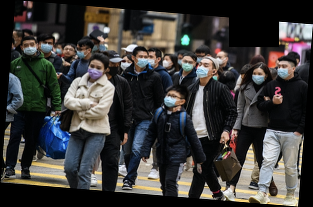with_mask: (195, 60, 210, 79), (87, 64, 104, 80), (163, 92, 179, 108), (276, 63, 290, 80), (22, 41, 37, 56), (135, 53, 149, 69), (251, 71, 266, 85), (181, 58, 194, 73), (108, 61, 120, 77), (40, 40, 53, 53), (74, 46, 86, 60), (120, 59, 132, 72), (147, 54, 157, 68), (194, 53, 204, 65), (215, 54, 224, 66), (162, 57, 171, 69), (91, 41, 99, 52), (177, 55, 183, 66), (56, 45, 63, 54)
without_mask: (63, 46, 75, 58)
